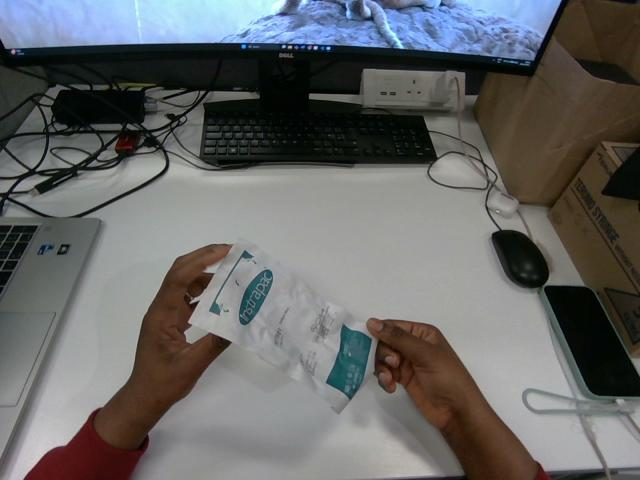gallipot: (190, 239, 376, 412)
